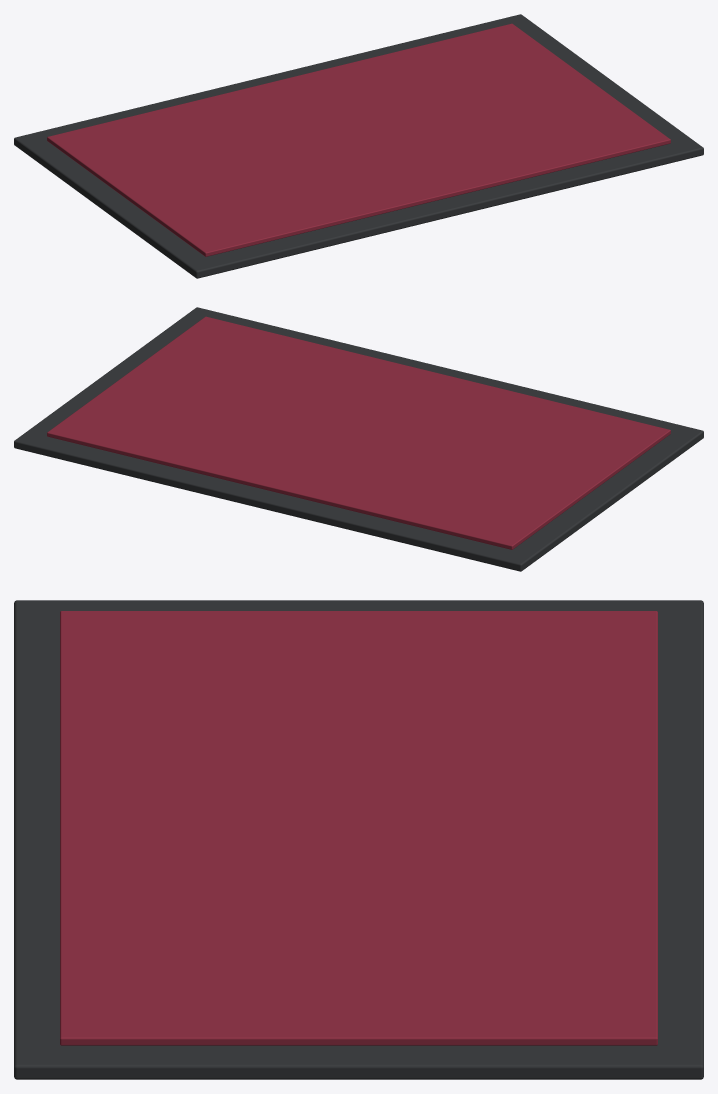
File: barbershop-and-hair-salon-entrance-mat-b1aeb1a0__29683.glb
The picture shows the model from 3 angles, top to bottom: view 1: azimuth 30°, elevation 25°; view 2: azimuth 150°, elevation 25°; view 3: azimuth 270°, elevation 25°; orthographic projection. The views are drawn at different scales.
Parts seen in each view (by area): view 1: entrance-mat; view 2: entrance-mat; view 3: entrance-mat.
Boxes of the visible parts, left/top/right/bottom form: entrance-mat: left=14, top=14, right=703, bottom=278; entrance-mat: left=14, top=307, right=703, bottom=571; entrance-mat: left=14, top=600, right=703, bottom=1079.
Size of the model in its own units: 1.2 by 0.028 by 0.7499.
